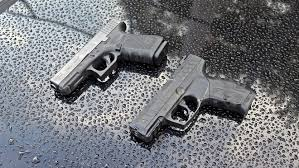gun: (112, 48, 262, 152), (45, 14, 172, 104)
